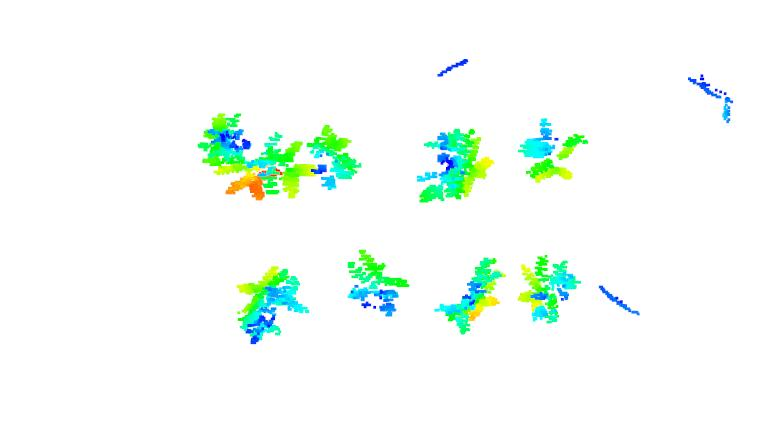chickpea: (190, 110, 308, 202), (230, 264, 315, 345), (417, 126, 492, 207), (433, 255, 507, 337), (345, 247, 411, 323), (518, 251, 583, 327), (519, 114, 588, 184), (306, 121, 364, 192)
